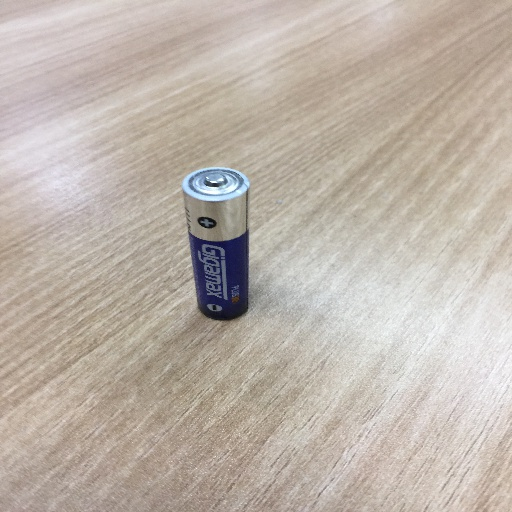Battery_0: (173, 148, 267, 333)
